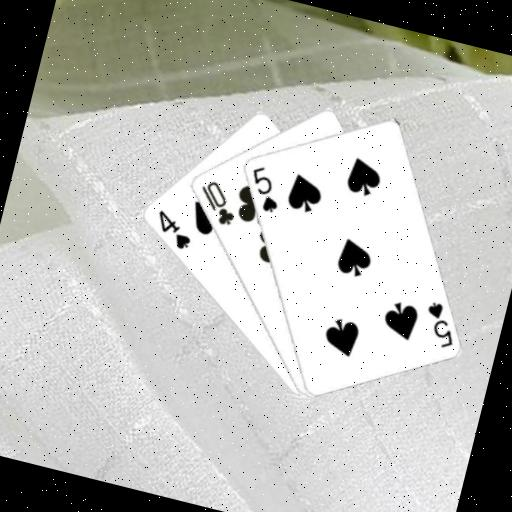10C: (190, 175, 244, 230)
4S: (147, 206, 198, 254)
5S: (240, 161, 288, 216), (416, 297, 463, 352)
